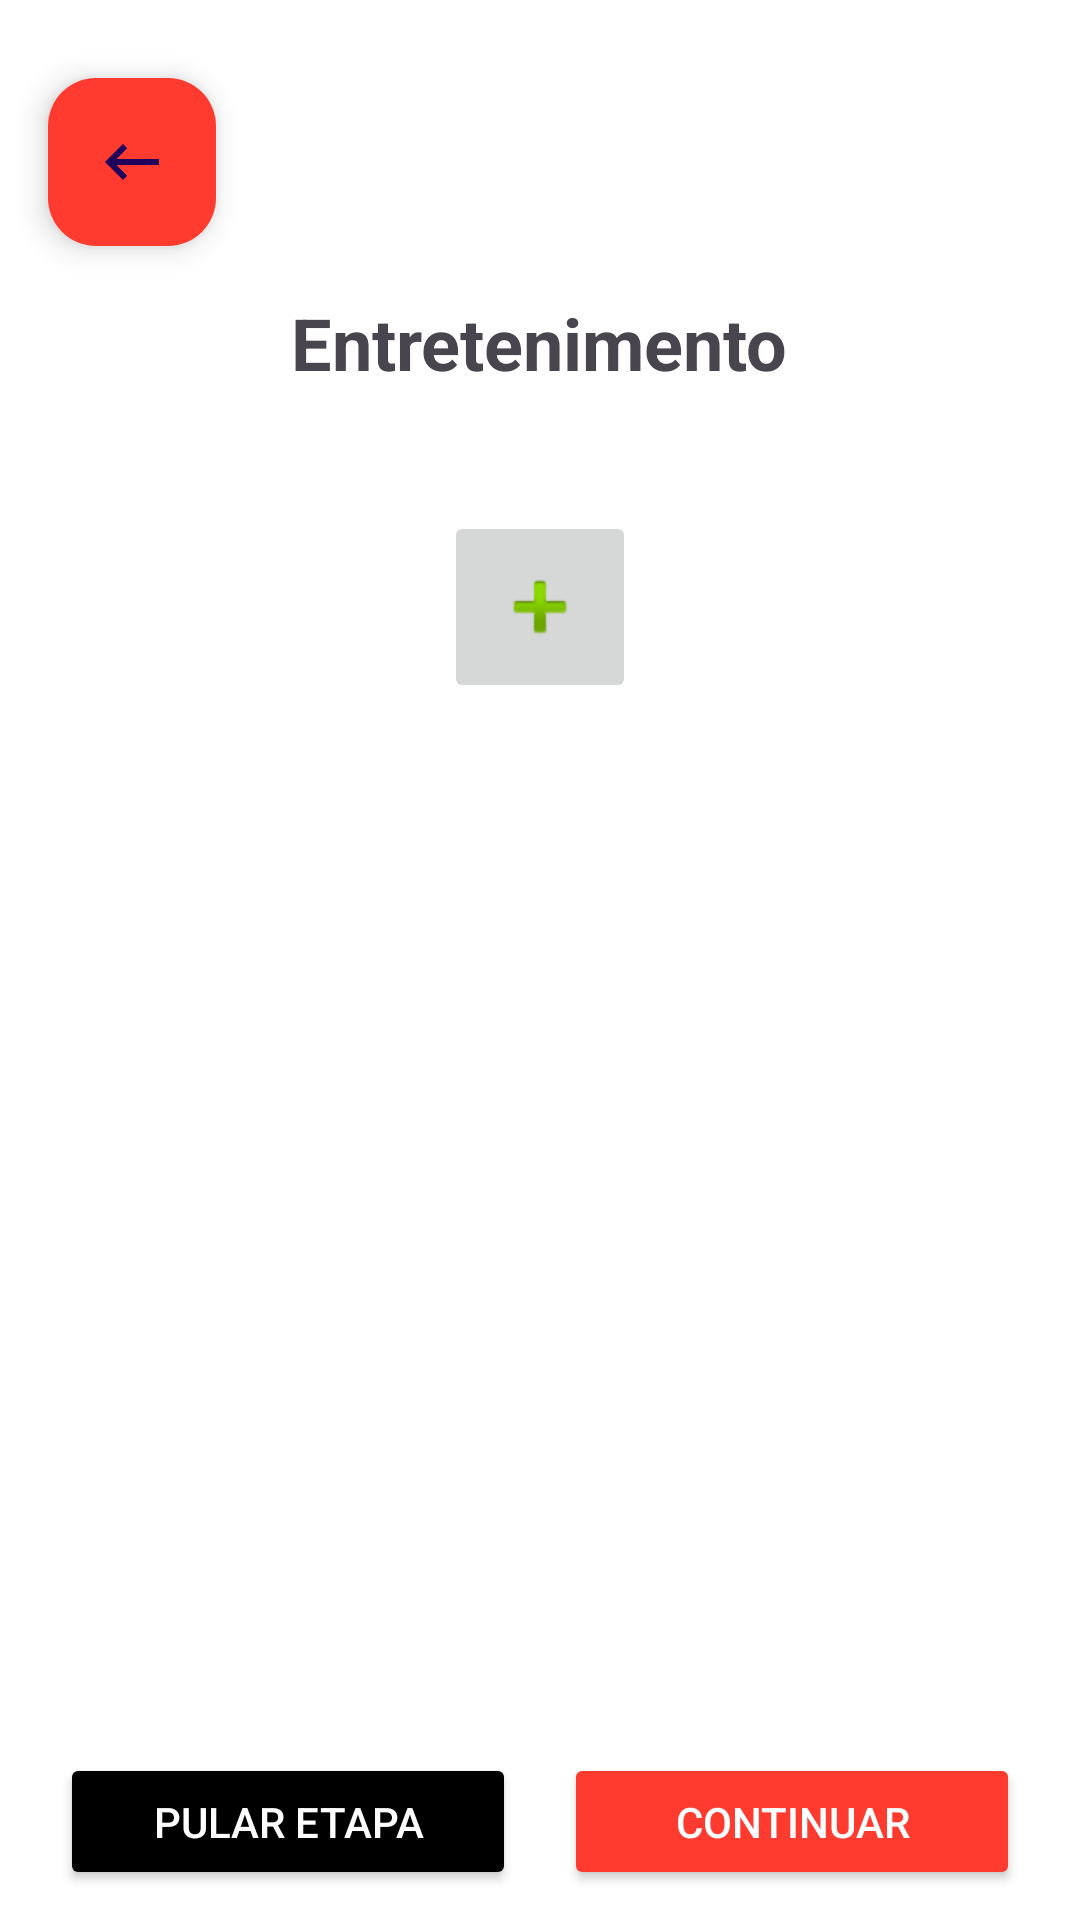

Named icons in this screenshot (1080 × 1920) and their centers, (x,y):
Adicionar atividade: (540,607)
back arrow: (132,162)
